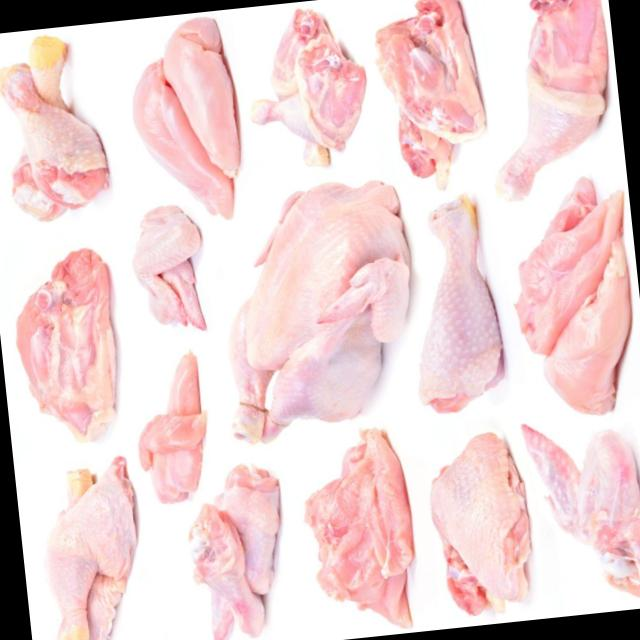chicken: (208, 180, 424, 442), (506, 173, 640, 416), (480, 0, 621, 196), (298, 425, 422, 632), (124, 18, 245, 222), (7, 243, 128, 444), (402, 193, 508, 420), (243, 5, 375, 176), (34, 451, 153, 640), (522, 416, 640, 605), (0, 28, 113, 225), (369, 0, 489, 179), (179, 456, 295, 640), (422, 432, 538, 616), (129, 350, 220, 505), (125, 200, 212, 332)
